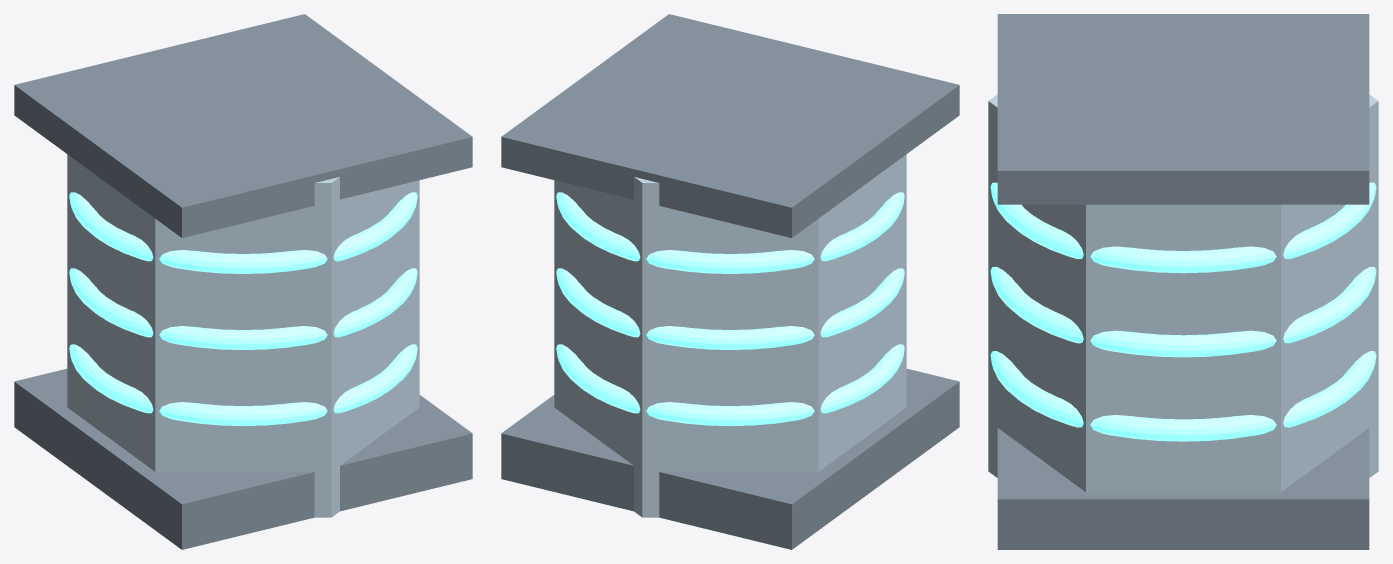
File: solid-wall-ice.glb
3 renders of one model, left to right at view 1: azimuth 30°, elevation 25°; view 2: azimuth 150°, elevation 25°; view 3: azimuth 270°, elevation 25°, orthographic. The views are drawn at different scales.
Parts seen in each view (by area): view 1: Cylinder, Cube.001, Cube, Torus.001, Torus.002, Torus; view 2: Cylinder, Cube.001, Cube, Torus.001, Torus.002, Torus; view 3: Cylinder, Cube.001, Cube, Torus.001, Torus, Torus.002.
Part boxes in pixels (bbox=[...]): Cylinder: bbox=[67, 154, 419, 517]; Cube.001: bbox=[14, 14, 472, 237]; Cube: bbox=[14, 368, 472, 549]; Torus.001: bbox=[69, 268, 417, 349]; Torus.002: bbox=[69, 192, 417, 273]; Torus: bbox=[69, 344, 417, 426]; Cylinder: bbox=[554, 154, 906, 517]; Cube.001: bbox=[501, 14, 959, 237]; Cube: bbox=[501, 368, 959, 549]; Torus.001: bbox=[556, 268, 904, 349]; Torus.002: bbox=[556, 192, 904, 273]; Torus: bbox=[556, 344, 904, 426]; Cylinder: bbox=[988, 94, 1378, 492]; Cube.001: bbox=[997, 14, 1369, 204]; Cube: bbox=[997, 428, 1369, 549]; Torus.001: bbox=[990, 266, 1376, 357]; Torus: bbox=[990, 351, 1376, 441]; Torus.002: bbox=[990, 182, 1376, 273].
Size of the model in its own units: 2.08 by 2.25 by 2.1.
